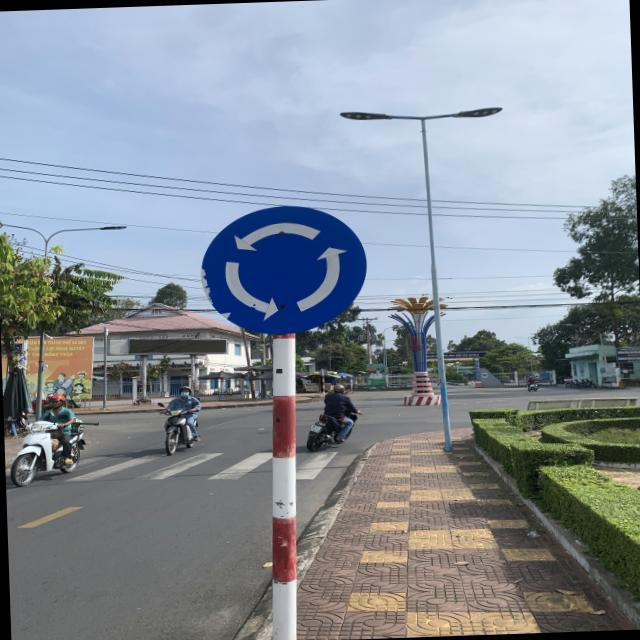Xe_Bus: (200, 200, 369, 338)
